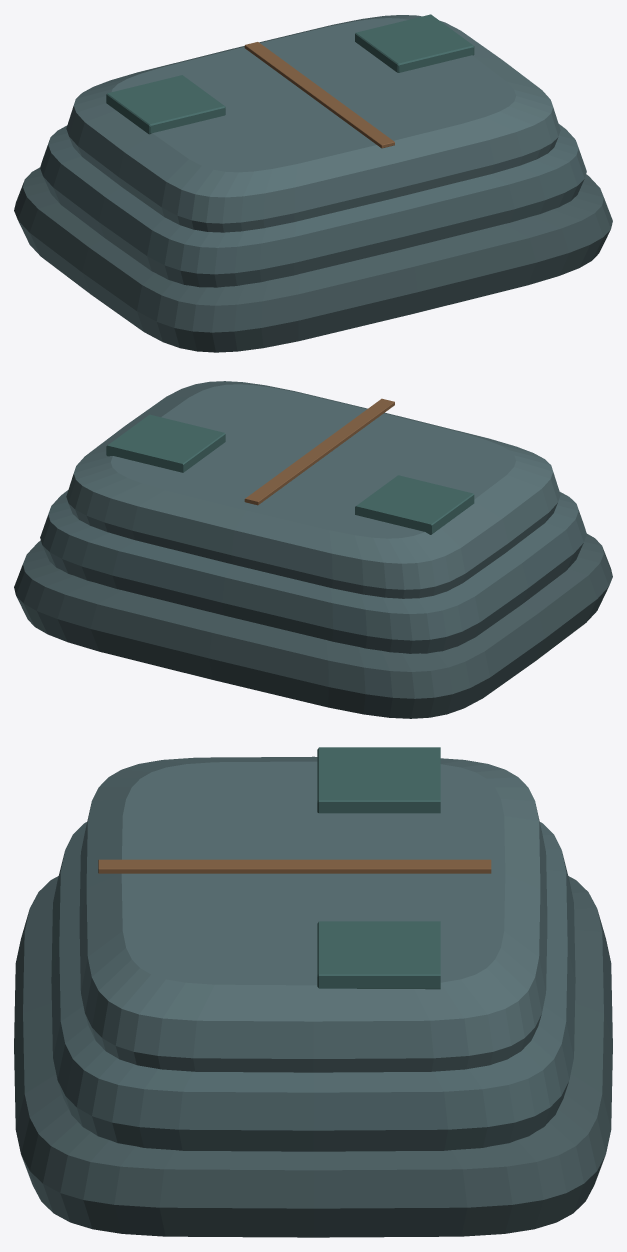
Rendered from R-12_folded_coverall.glb.
The picture shows the model from 3 angles, top to bottom: view 1: azimuth 30°, elevation 25°; view 2: azimuth 150°, elevation 25°; view 3: azimuth 270°, elevation 25°; orthographic projection. The views are drawn at different scales.
Parts seen in each view (by area): view 1: R-12_folded_coverall; view 2: R-12_folded_coverall; view 3: R-12_folded_coverall.
Part boxes in pixels (left/top/right/bottom): R-12_folded_coverall: left=14, top=14, right=612, bottom=352; R-12_folded_coverall: left=14, top=381, right=612, bottom=718; R-12_folded_coverall: left=14, top=747, right=612, bottom=1237.
Bounding box in the file's own units: 0.41 × 0.1385 × 0.32.
